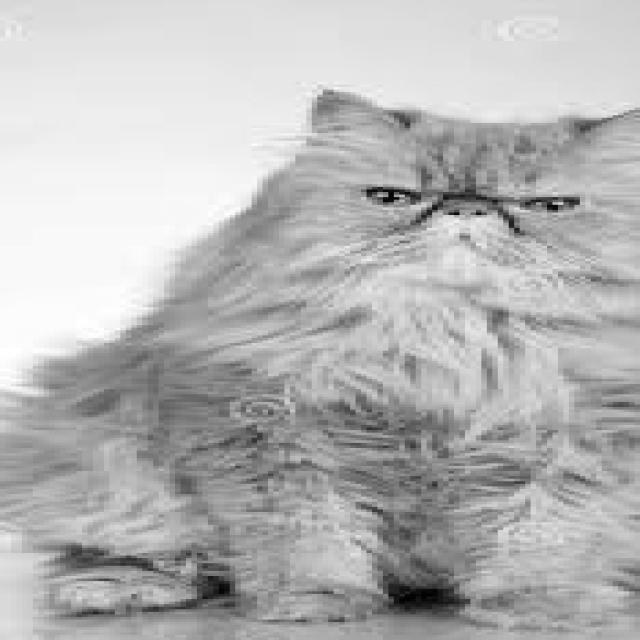iran: (317, 141, 640, 299)
